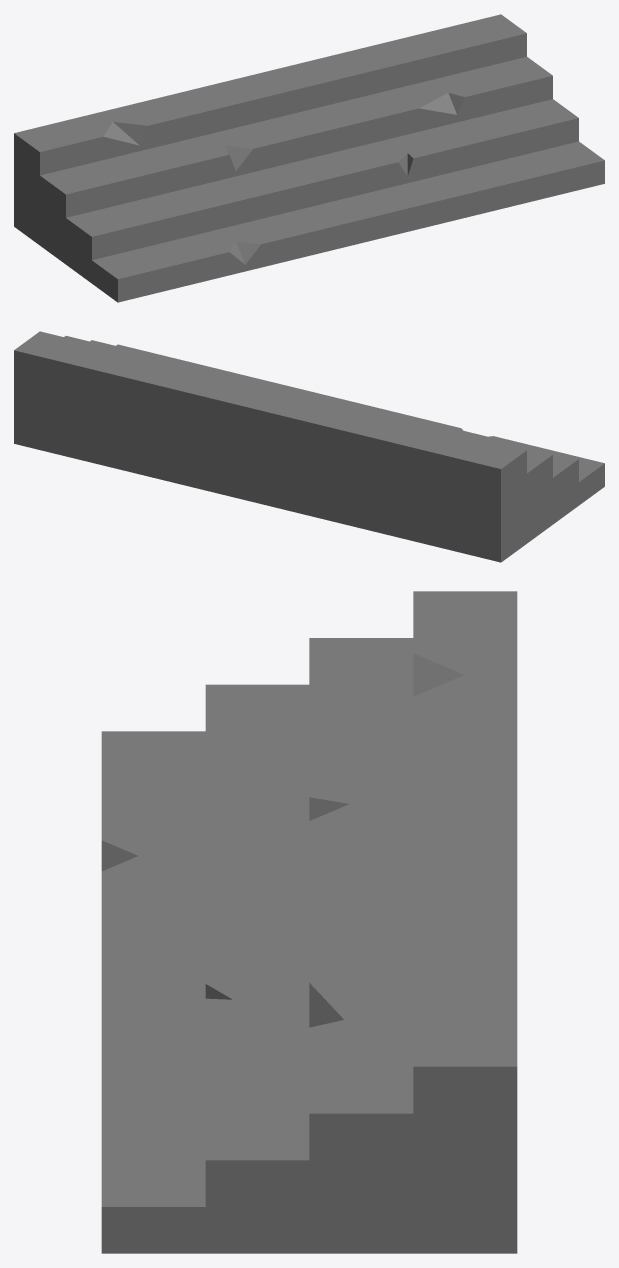
Rendered from stone_stairs.fbx.
3 renders of one model, top to bottom at view 1: azimuth 30°, elevation 25°; view 2: azimuth 150°, elevation 25°; view 3: azimuth 270°, elevation 25°, orthographic. The views are drawn at different scales.
Visible parts, largest first — view 1: stone_stairs; view 2: stone_stairs; view 3: stone_stairs.
Boxes of the visible parts, bbox=[...] form: stone_stairs: bbox=[14, 14, 604, 302]; stone_stairs: bbox=[14, 331, 604, 562]; stone_stairs: bbox=[101, 591, 517, 1253].
Bounding box in the file's own units: 331 × 60.63 × 122.
